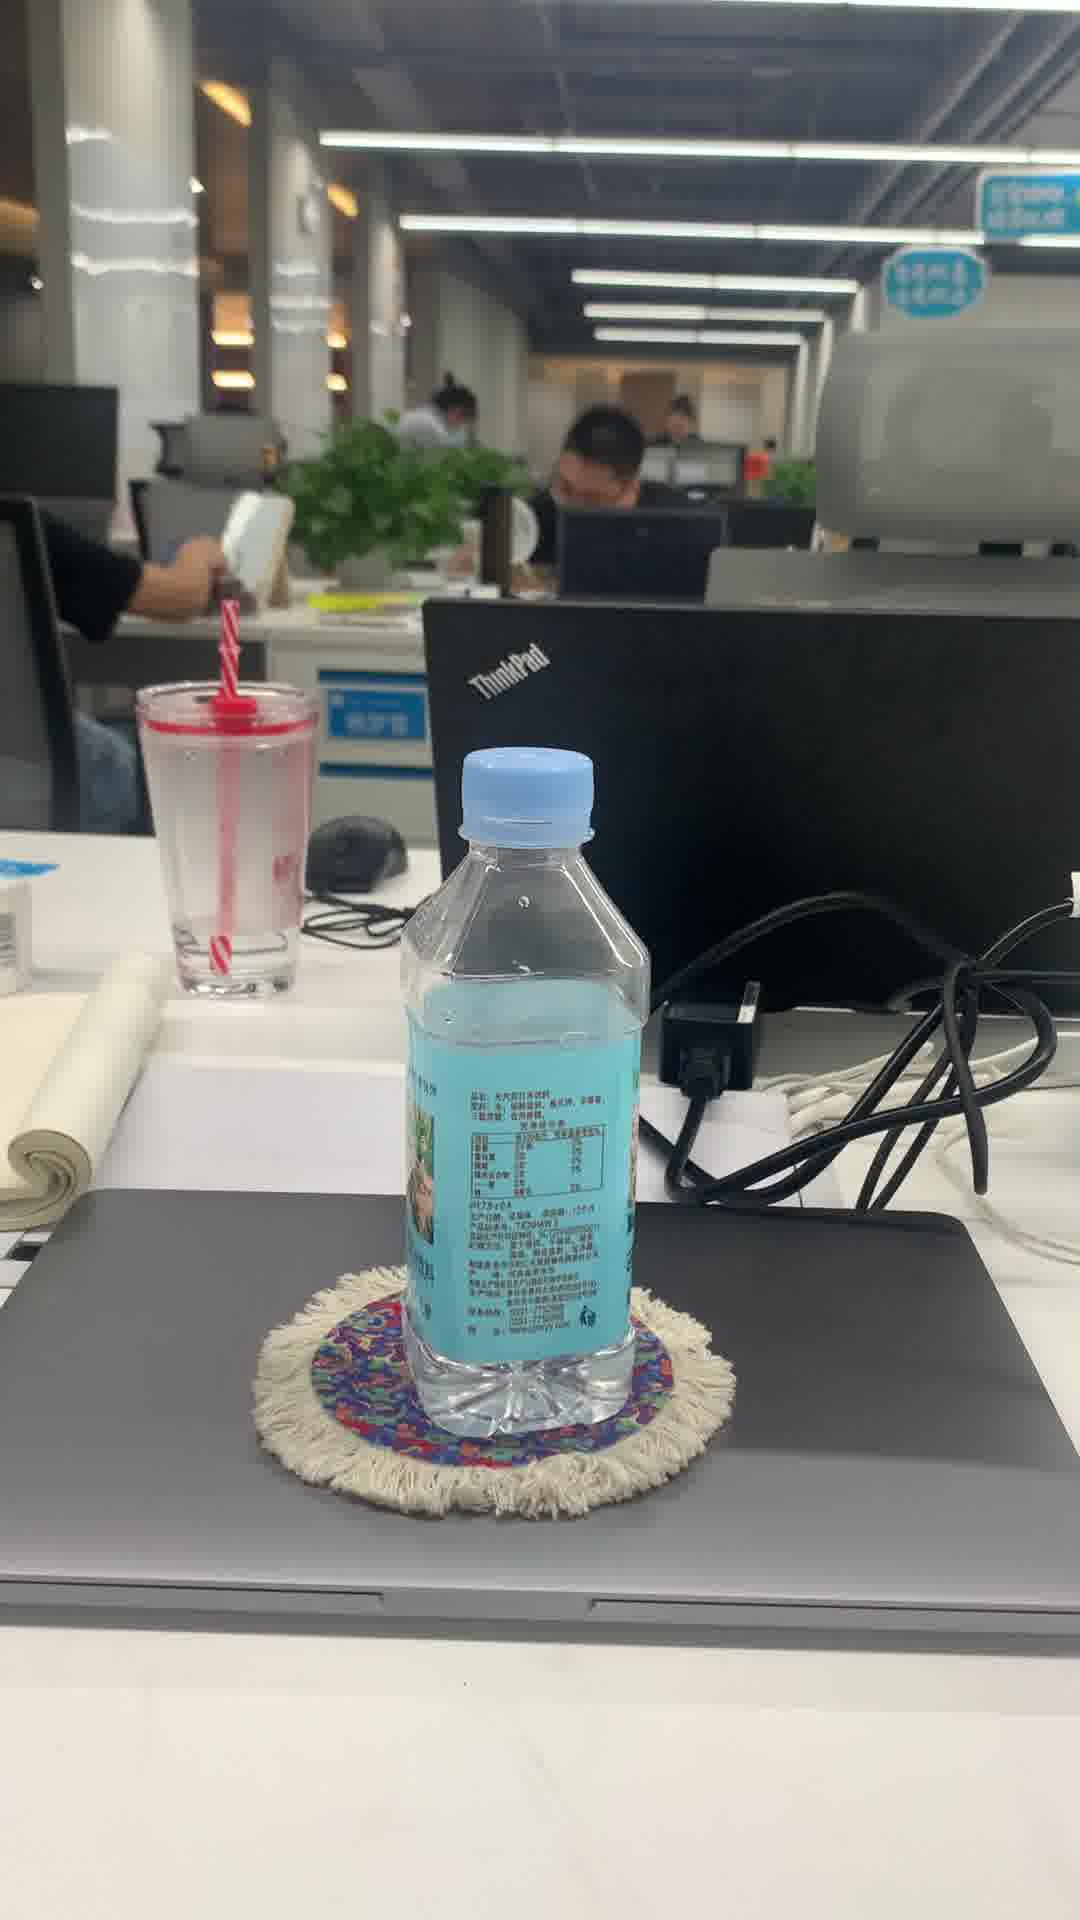水瓶: (402, 742, 647, 1443)
